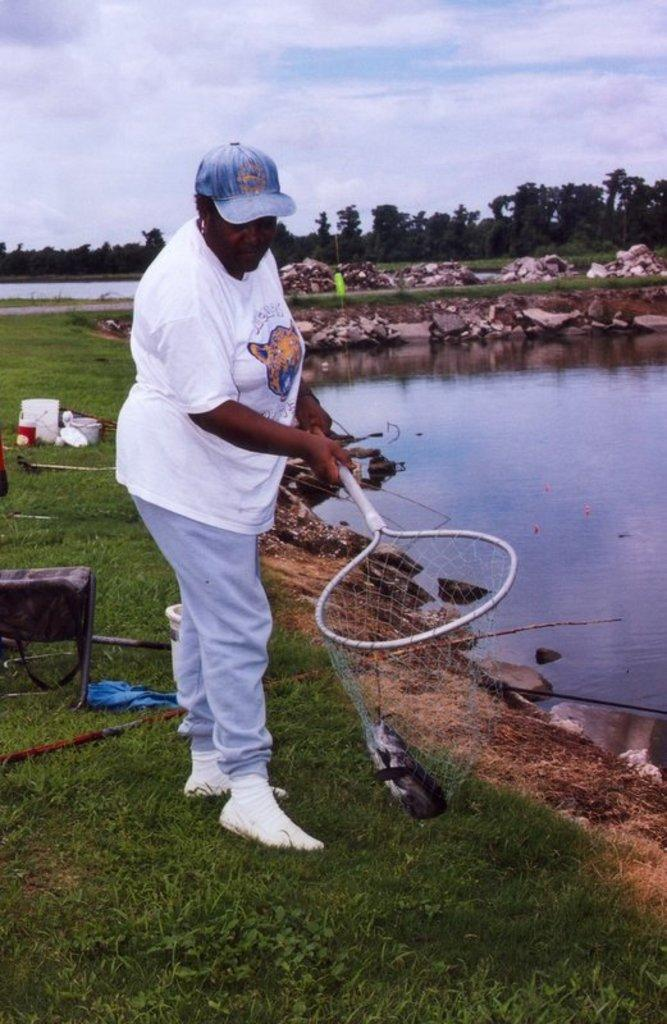Hat: (195, 138, 299, 228)
